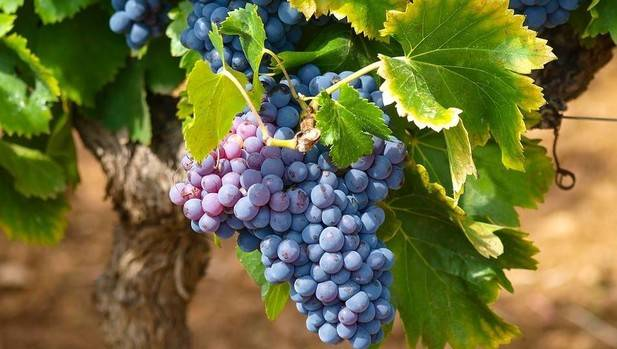Black grapes: (175, 25, 421, 346)
